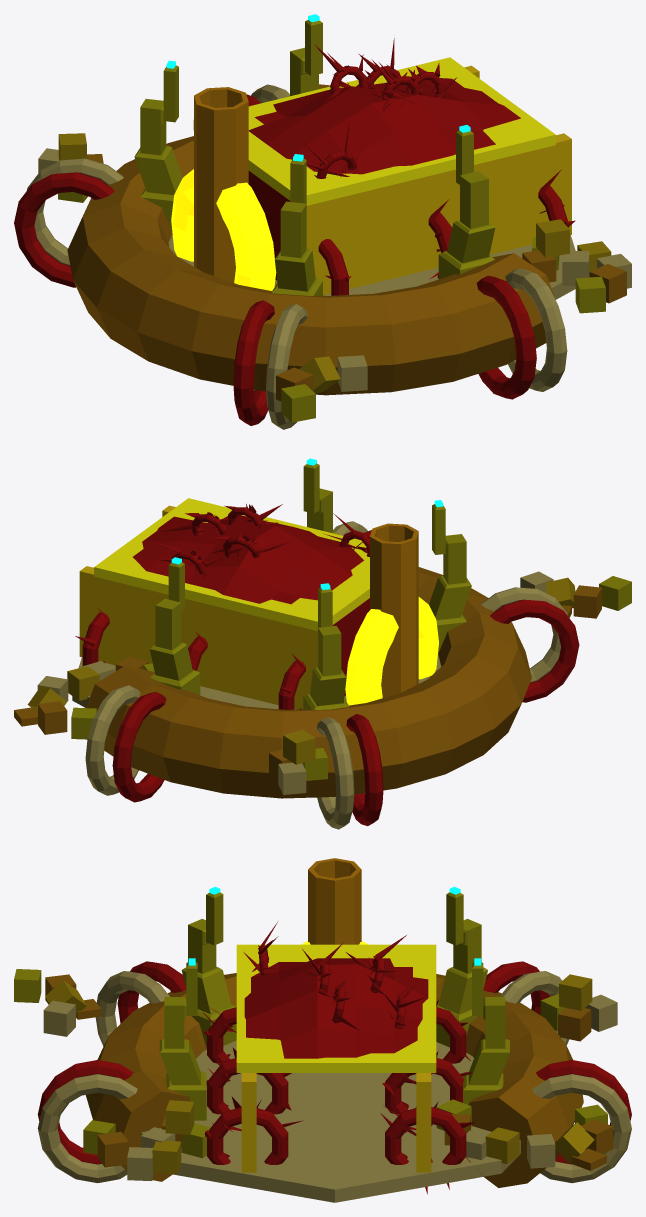
Rendered from spawnert1.fbx.
3 renders of one model, top to bottom at view 1: azimuth 30°, elevation 25°; view 2: azimuth 150°, elevation 25°; view 3: azimuth 270°, elevation 25°, orthographic. The views are drawn at different scales.
Visible parts, largest first — view 1: Spawnert1; view 2: Spawnert1; view 3: Spawnert1.
Part boxes in pixels (box(x1,y1,x2,y2)): Spawnert1: box(14, 14, 631, 429); Spawnert1: box(14, 458, 631, 829); Spawnert1: box(14, 858, 631, 1202).
Size of the model in its own units: 497 by 253 by 619.
